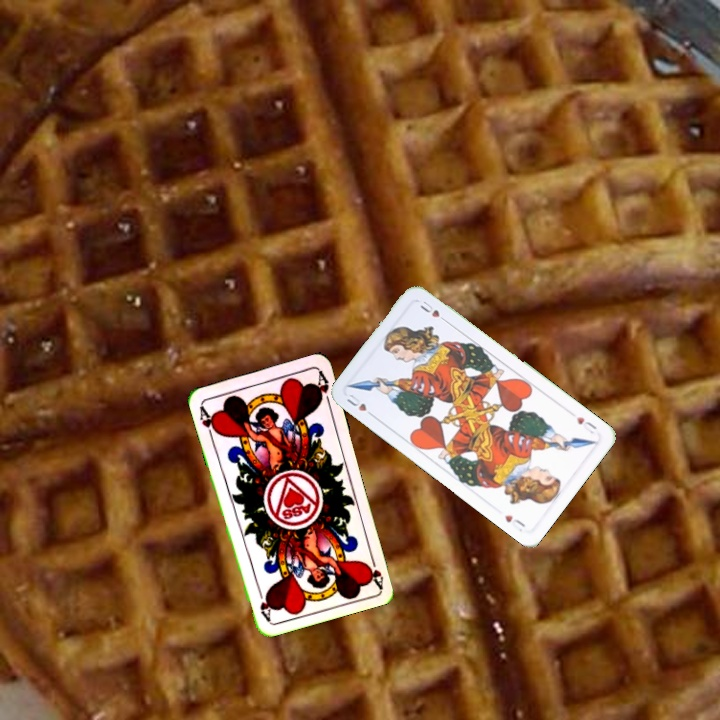HA: (195, 401, 221, 441), (363, 549, 386, 589)
HU: (343, 390, 378, 420), (572, 412, 599, 437)
